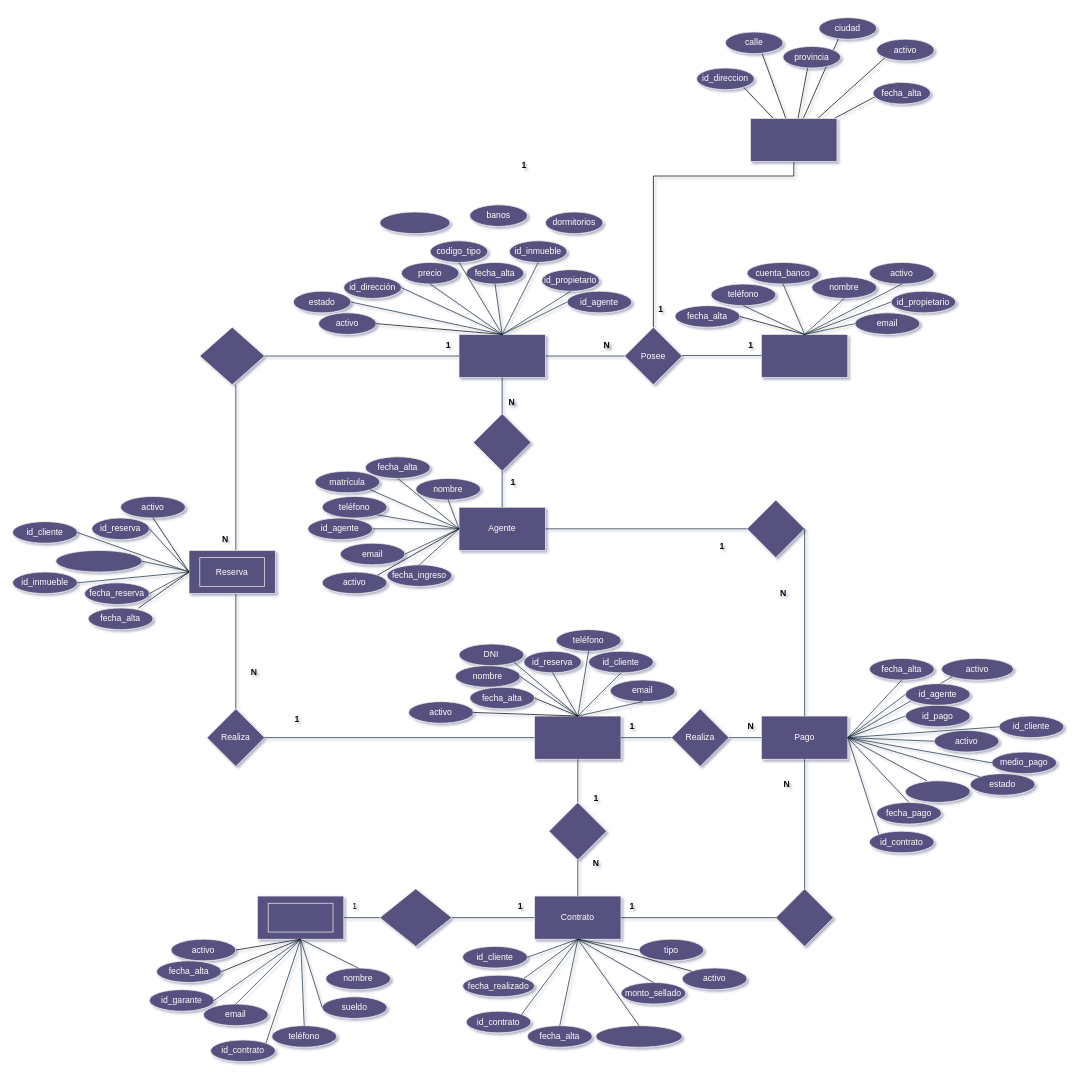
The diagram is 1081 pixels wide and 1079 high, and some of its shapes have lost their labels. Each missing label, with the box of its shape:
Cliente: (534, 715, 621, 759)
Comercializa: (473, 413, 531, 471)
Direccion: (750, 118, 837, 162)
Es garantía de: (379, 888, 452, 946)
Es reservado: (199, 327, 265, 385)
fecha_vencimeinto: (55, 550, 142, 572)
fecha_vencimiento: (595, 1025, 682, 1047)
Firma: (548, 802, 607, 860)
Garante: (267, 903, 333, 932)
Genera: (775, 888, 833, 946)
Gestiona: (746, 499, 805, 558)
Inmueble: (458, 334, 545, 378)
monto: (905, 780, 970, 802)
Propietario: (761, 334, 848, 378)
superficie_total: (379, 211, 450, 234)
